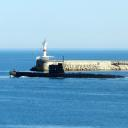submarine: (6, 64, 126, 79)
